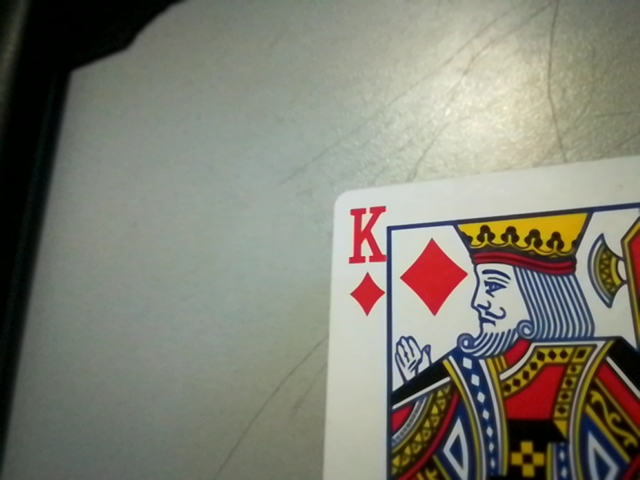fk k: (340, 202, 393, 312)
